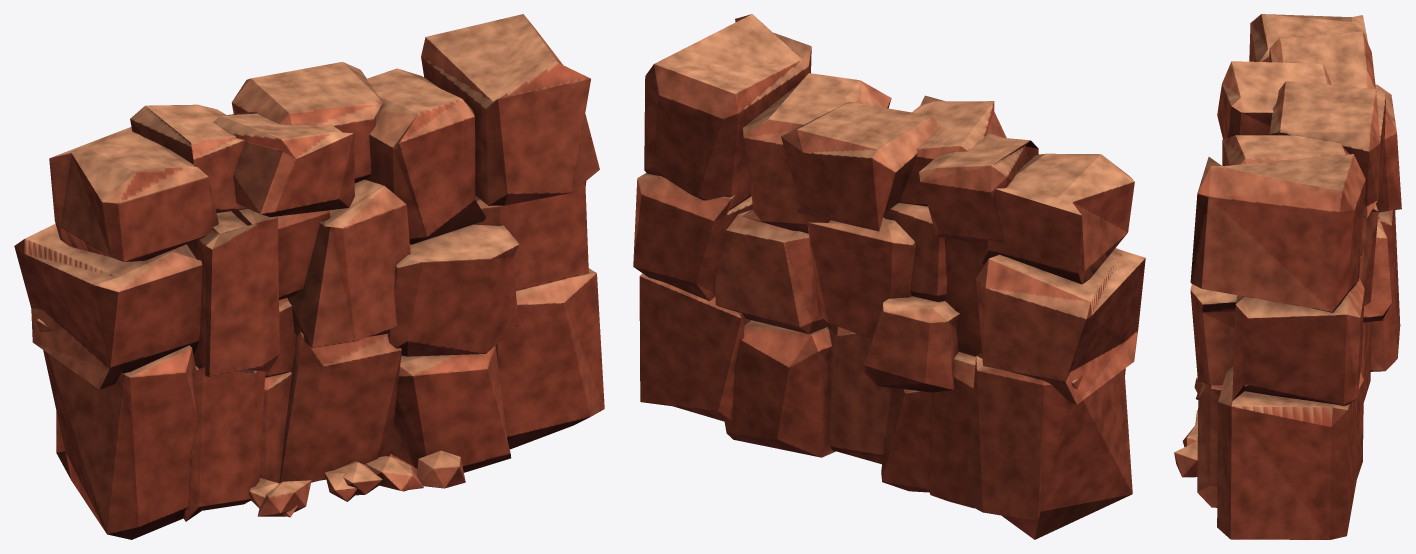
The model's file is Env_CliffRed_3.glb.
3 views of the same model, side by side, from view 1: azimuth 30°, elevation 25°; view 2: azimuth 150°, elevation 25°; view 3: azimuth 270°, elevation 25° (orthographic). The views are drawn at different scales.
Parts seen in each view (by area): view 1: Env_CliffRed_3.001; view 2: Env_CliffRed_3.001; view 3: Env_CliffRed_3.001.
Boxes of the visible parts, x1=… form: Env_CliffRed_3.001: x1=14, y1=14, x2=604, y2=539; Env_CliffRed_3.001: x1=633, y1=14, x2=1145, y2=539; Env_CliffRed_3.001: x1=1174, y1=14, x2=1401, y2=539.
Size of the model in its own units: 12 by 9.03 by 4.96.
Materials: 1 (1 with a texture image).
